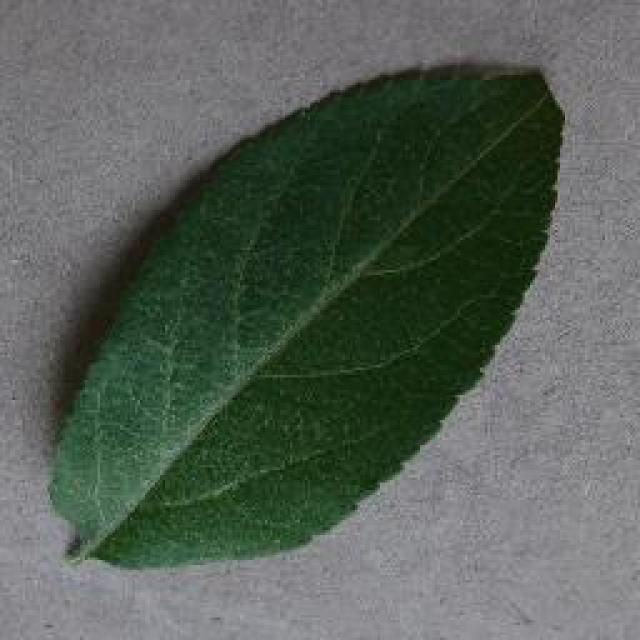apple healthy: (45, 58, 567, 570)
